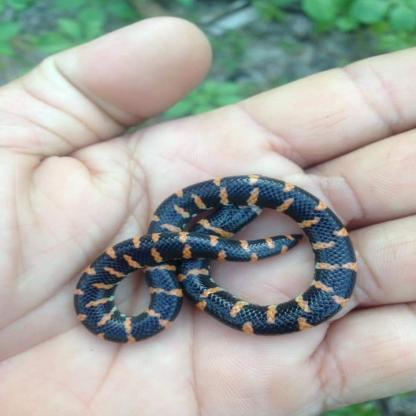Snake: (71, 173, 359, 341)
